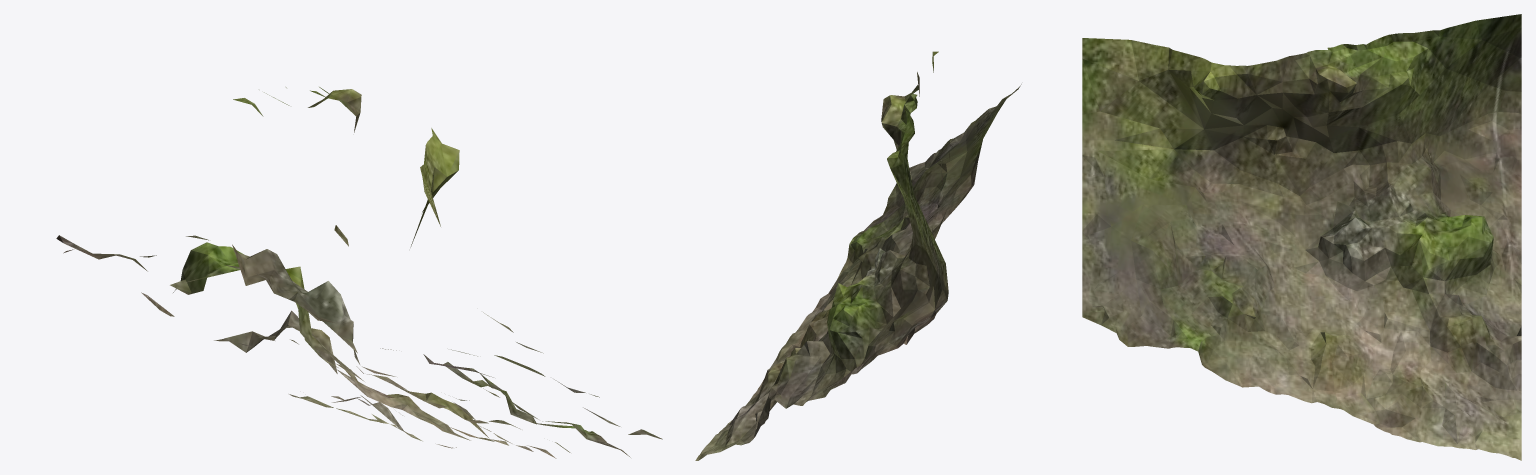
3 views of the same model, side by side, from view 1: azimuth 30°, elevation 25°; view 2: azimuth 150°, elevation 25°; view 3: azimuth 270°, elevation 25° (orthographic). The views are drawn at different scales.
Size of the model in its own units: 7.96 by 10.27 by 11.8.
3 materials, 3 textured.
